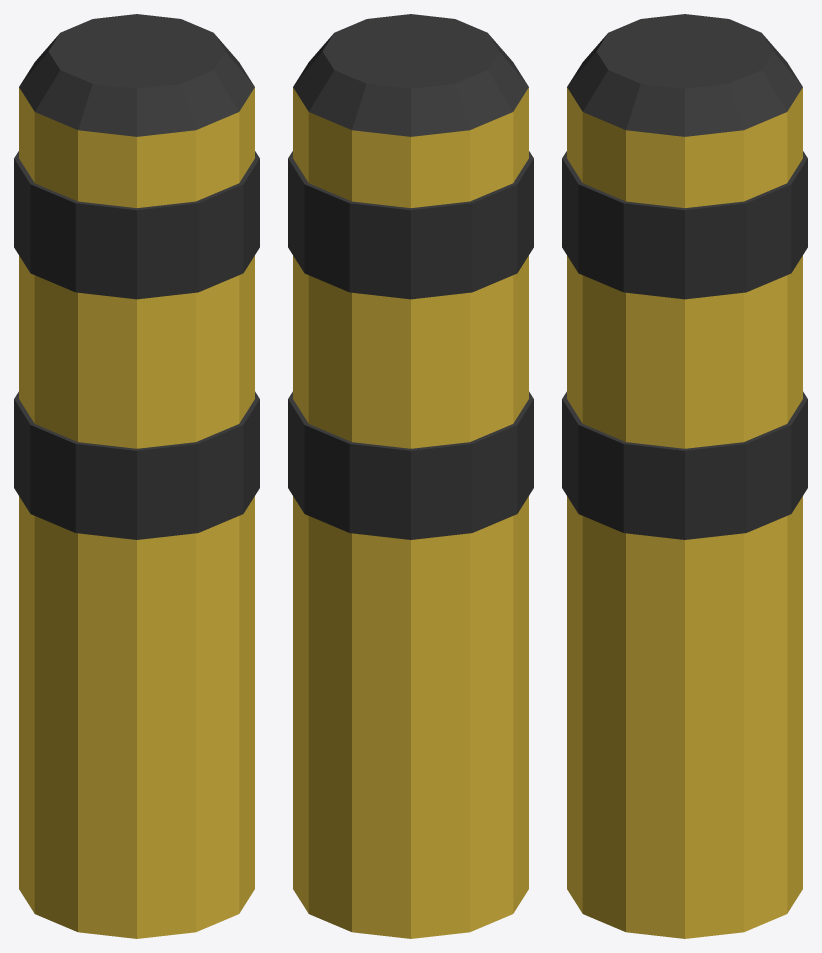
The model's file is kit_bollard.glb.
3 renders of one model, left to right at view 1: azimuth 30°, elevation 25°; view 2: azimuth 150°, elevation 25°; view 3: azimuth 270°, elevation 25°, orthographic.
Parts seen in each view (by area): view 1: post, band.001, band, cap; view 2: post, band.001, band, cap; view 3: post, band.001, band, cap.
Part boxes in pixels (x1,y1,x2,y2): post: (19, 87, 254, 938); band.001: (14, 151, 259, 299); band: (14, 391, 259, 539); cap: (19, 14, 254, 136); post: (293, 87, 528, 938); band.001: (288, 151, 533, 299); band: (288, 391, 533, 539); cap: (293, 14, 528, 136); post: (567, 87, 802, 938); band.001: (562, 151, 807, 299); band: (562, 391, 807, 539); cap: (567, 14, 802, 136).
Size of the model in its own units: 0.25 by 0.94 by 0.25.
